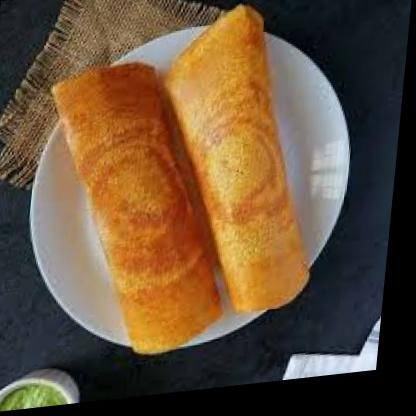dosa: (32, 55, 249, 368), (143, 1, 336, 328)
